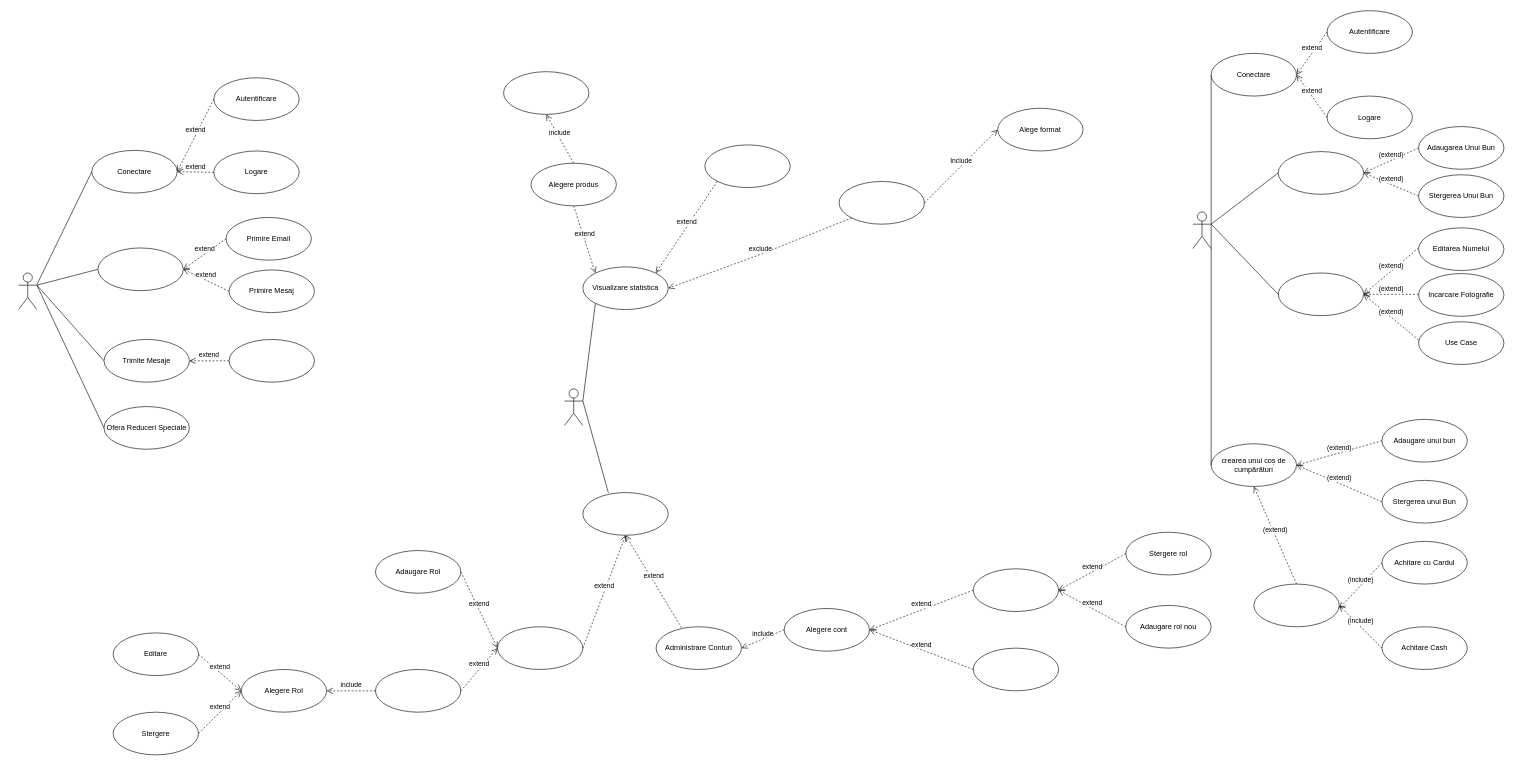
This 1515x766 diagram has some shape labels left out. The box of each missing label's shape, as (x1, y1, x2, y2) in pixels:
Achitare: (1253, 583, 1339, 627)
Admin: (564, 388, 583, 425)
Administrare site: (582, 492, 668, 535)
Blocare cont: (973, 648, 1059, 691)
Consultant: (18, 272, 37, 310)
creare wishlist: (1278, 151, 1364, 194)
Editare Rol: (375, 669, 461, 712)
Editare Roluri: (497, 626, 583, 669)
Editare roluri cont: (973, 568, 1059, 612)
Export: (838, 181, 924, 224)
Receptare Mesaje: (97, 247, 183, 291)
setarea profilului: (1278, 272, 1364, 316)
trimitere imagini: (228, 339, 314, 382)
Utilizator: (1192, 211, 1211, 249)
Visualizare statistica generala: (704, 144, 790, 188)
Visualizare statistica produs: (503, 71, 589, 114)
